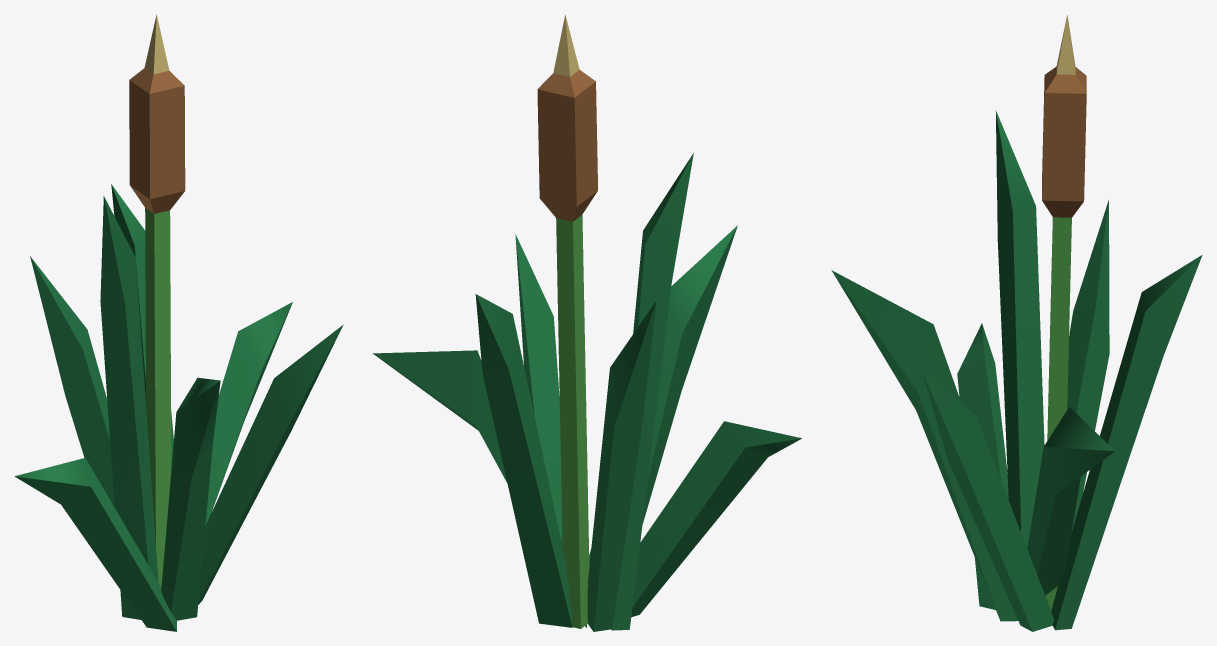
Rendered from SM_Env_Reeds_01-optimized.glb.
3 views of the same model, side by side, from view 1: azimuth 30°, elevation 25°; view 2: azimuth 150°, elevation 25°; view 3: azimuth 270°, elevation 25° (orthographic). The views are drawn at different scales.
Parts seen in each view (by area): view 1: SM_Env_Reeds_01; view 2: SM_Env_Reeds_01; view 3: SM_Env_Reeds_01.
Part boxes in pixels (left/top/right/bottom): SM_Env_Reeds_01: left=15, top=14, right=343, bottom=631; SM_Env_Reeds_01: left=373, top=15, right=801, bottom=631; SM_Env_Reeds_01: left=831, top=15, right=1202, bottom=631.
Size of the model in its own units: 0.8319 by 1.35 by 0.7516.
1 material, 1 textured.
